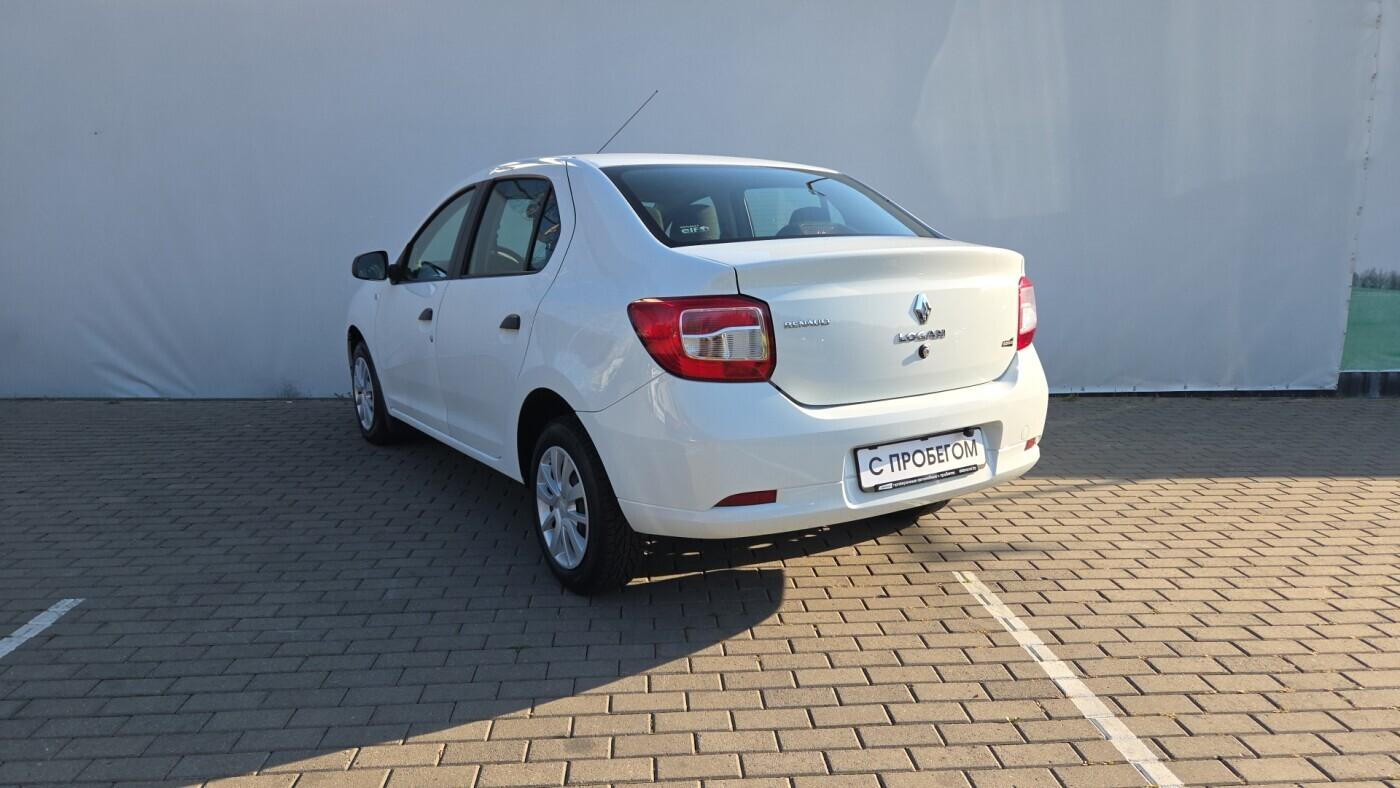Logan_2018: (335, 152, 1055, 593)
